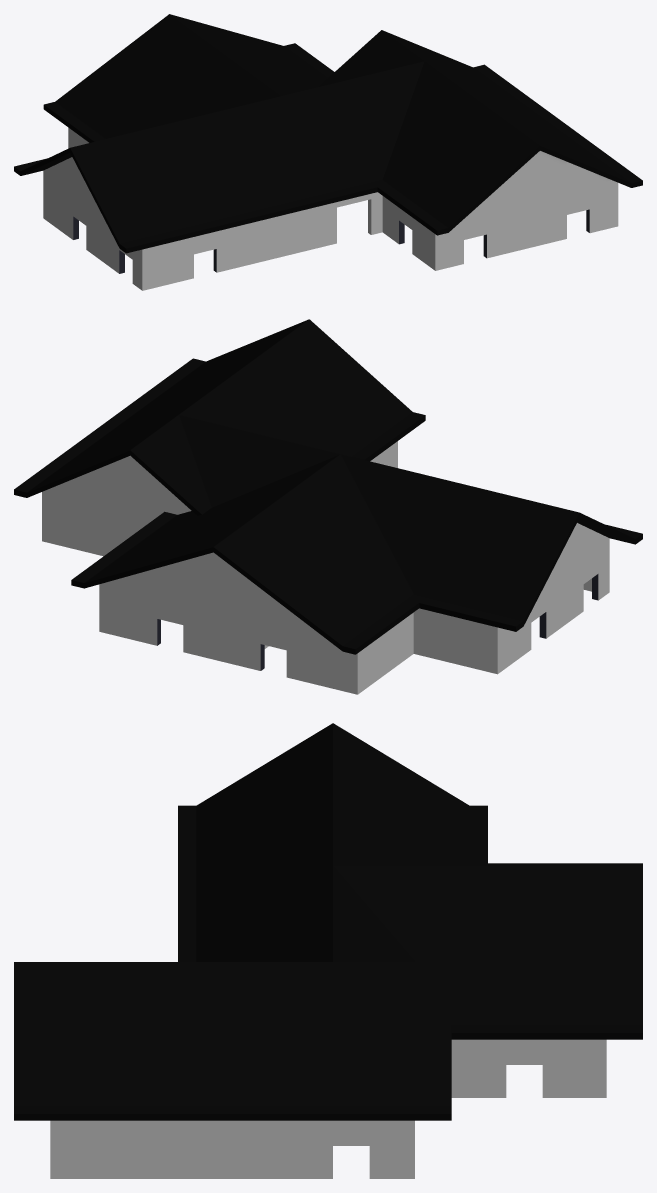
The model's file is top.glb.
The picture shows the model from 3 angles, top to bottom: view 1: azimuth 30°, elevation 25°; view 2: azimuth 150°, elevation 25°; view 3: azimuth 270°, elevation 25°; orthographic projection. The views are drawn at different scales.
Parts seen in each view (by area): view 1: Roof, Walls.001; view 2: Roof, Walls.001; view 3: Roof, Walls.001.
Part boxes in pixels (left/top/right/bottom): Roof: left=14, top=14, right=642, bottom=253; Walls.001: left=43, top=127, right=618, bottom=290; Roof: left=14, top=319, right=642, bottom=654; Walls.001: left=42, top=441, right=609, bottom=694; Roof: left=14, top=723, right=642, bottom=1120; Walls.001: left=50, top=1039, right=606, bottom=1178.
Size of the model in its own units: 40 by 9.4 by 34.5.
Materials: 2 (2 with a texture image).
